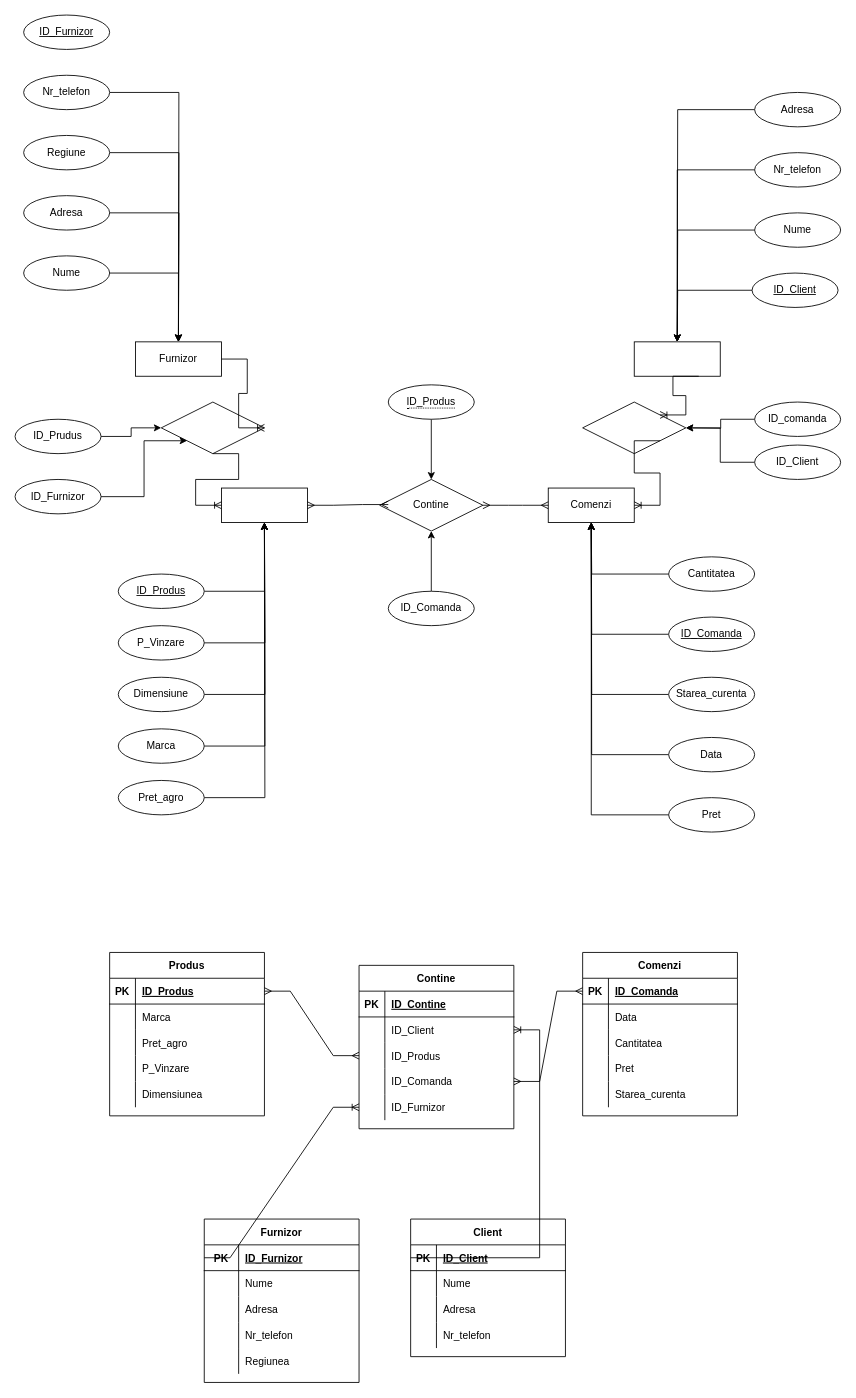
Some shapes in this 856 by 1398 pixel diagram are drawn without their labels. Here are the shapes that lost their labels. From the top down, the centre of each, then its label:
point (676, 358): Clienti
point (212, 427): Livreaza
point (634, 427): Apartin
point (264, 504): Produse
